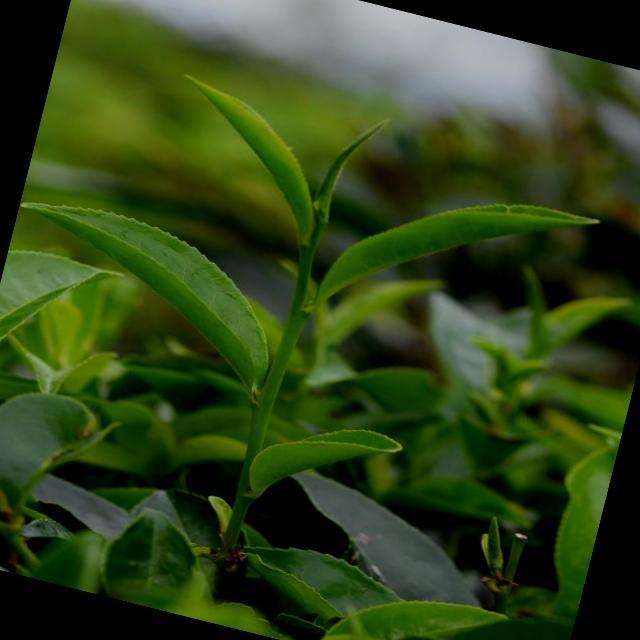Stem: (293, 311, 309, 322)
